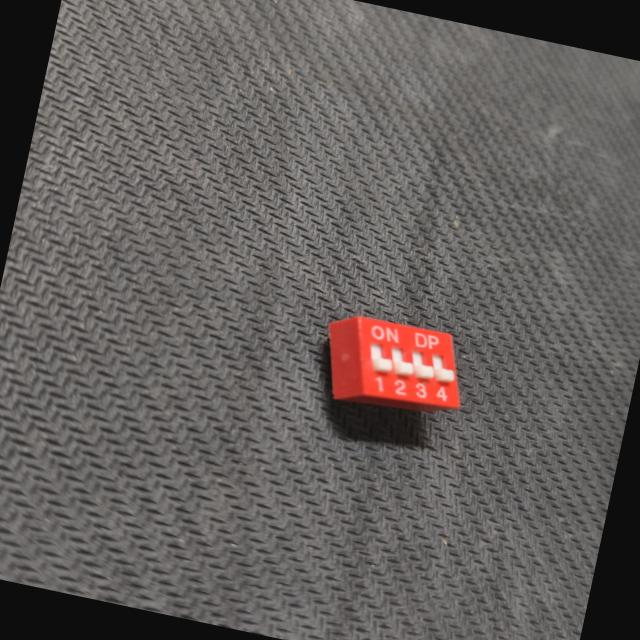switch: (302, 296, 496, 442)
